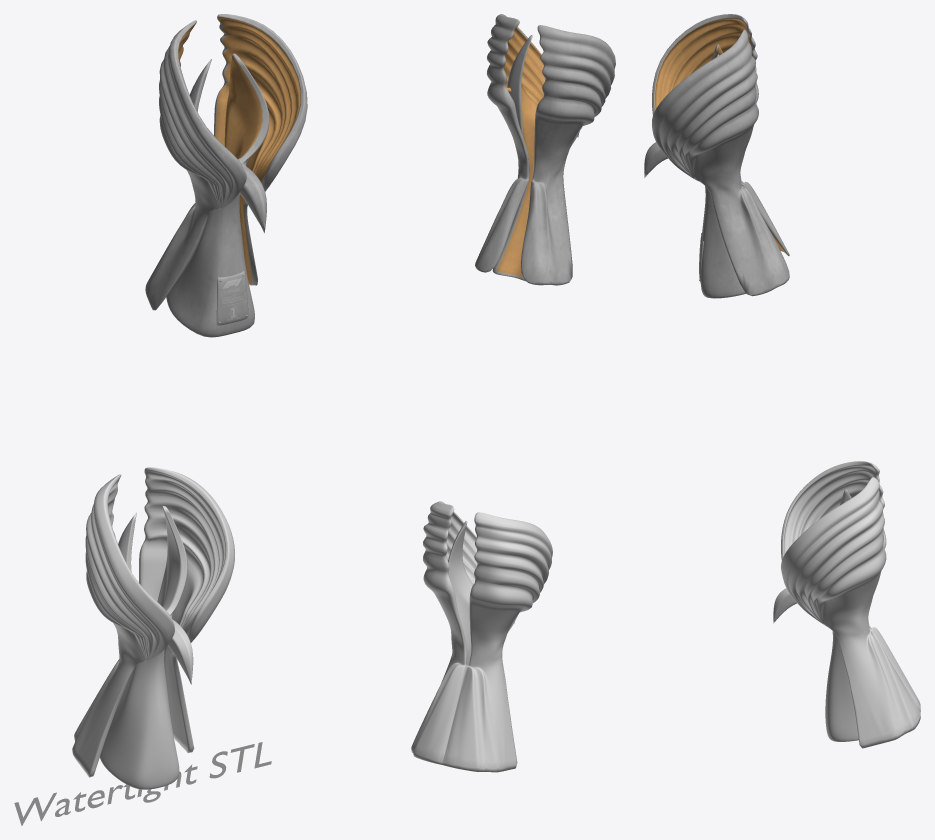
File: F1_Trophy_-_Abu_Dhabi_Formula_1_GP.gltf
The picture shows the model from 3 angles, left to right: view 1: azimuth 30°, elevation 25°; view 2: azimuth 150°, elevation 25°; view 3: azimuth 270°, elevation 25°; orthographic projection. The views are drawn at different scales.
Visible parts, largest first — view 1: GeometryNode_5, GeometryNode_27, GeometryNode_58, GeometryNode_72, GeometryNode_44; view 2: GeometryNode_5, GeometryNode_27, GeometryNode_58, GeometryNode_72; view 3: GeometryNode_5, GeometryNode_27, GeometryNode_58, GeometryNode_72.
Part boxes in pixels (x1,y1,x2,y2): GeometryNode_5: [145, 14, 307, 337]; GeometryNode_27: [72, 467, 234, 789]; GeometryNode_58: [72, 467, 234, 777]; GeometryNode_72: [100, 506, 193, 789]; GeometryNode_44: [14, 742, 271, 825]; GeometryNode_5: [475, 14, 615, 285]; GeometryNode_27: [411, 501, 552, 772]; GeometryNode_58: [411, 501, 552, 772]; GeometryNode_72: [448, 521, 514, 665]; GeometryNode_5: [644, 14, 789, 298]; GeometryNode_27: [773, 461, 920, 747]; GeometryNode_58: [781, 461, 920, 748]; GeometryNode_72: [773, 489, 858, 741].
Bounding box in the file's own units: 0.5751 × 1.79 × 0.5982.
Materials: 2 (1 with a texture image).
